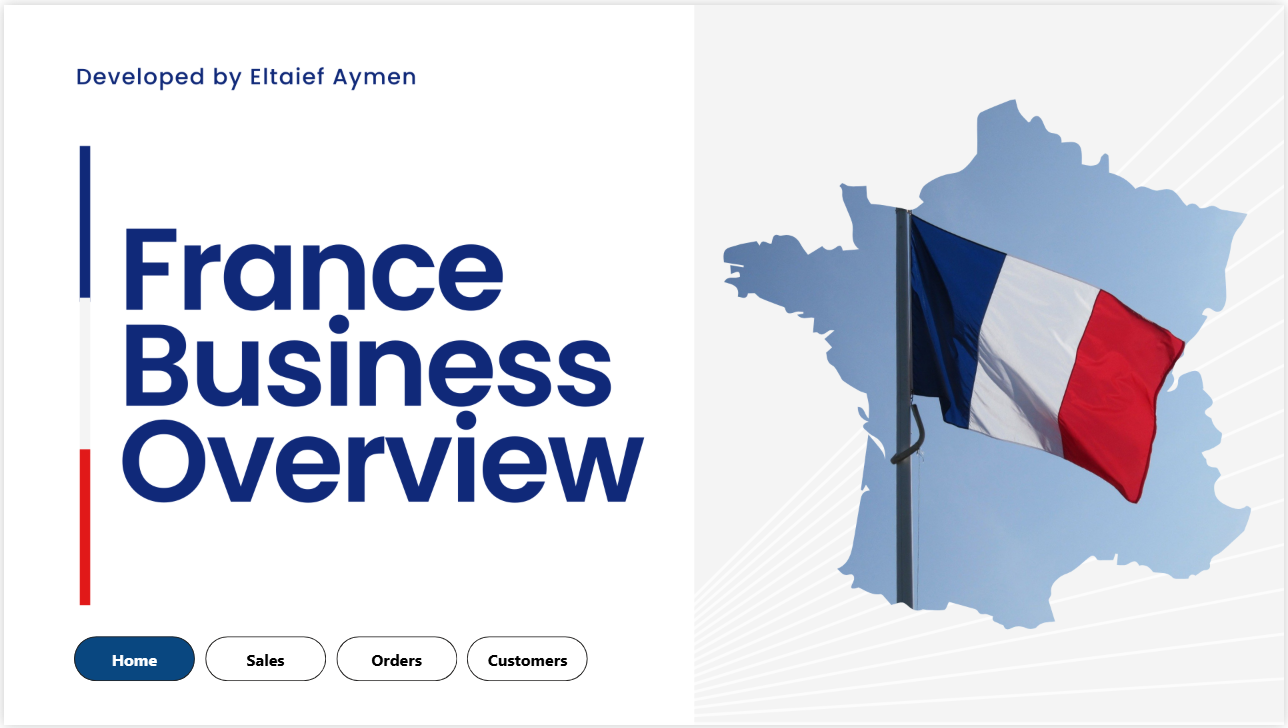

The page's visual inventory and layout, read from the dashboard file:
{"tool":"powerbi","page":{"name":"Home","canvas":[1280,720],"ordinal":0},"visuals":[{"type":"pageNavigator","box":[70.2,631,514.3,45.2],"z":0}]}

Visuals, with their boxes in screenshot pixels (x1, y1, x2, y2), scaled from the page's 1280x720 canvas onto the 1288x728 screenshot:
pageNavigator: [x1=71, y1=638, x2=588, y2=684]
